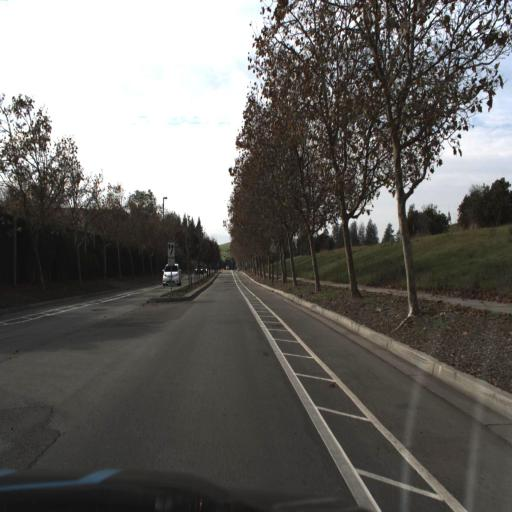car: (162, 264, 180, 287)
